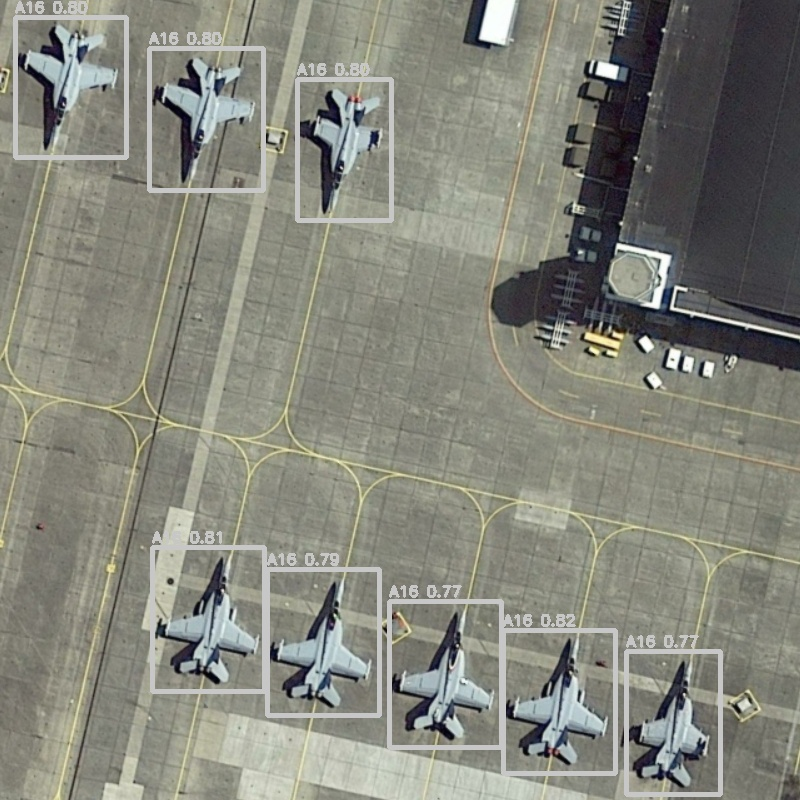A16: (267, 569, 379, 715), (389, 601, 501, 747), (149, 48, 263, 190), (152, 547, 264, 691), (503, 630, 615, 773), (15, 17, 126, 157), (626, 651, 720, 794), (297, 79, 391, 220)
